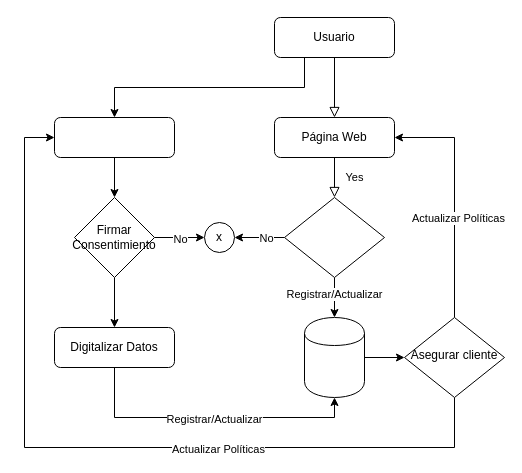
The diagram is 522 pixels wide and 473 high, and some of its shapes have lost their labels. The shapes that lost their labels are listed below. From the top down, each one's centre as x and y in pixels, then its label:
At (114,137): "Asesor".
At (334,237): "Aceptar Consentimiento".
At (334,357): "BD_ Consentimiento".
